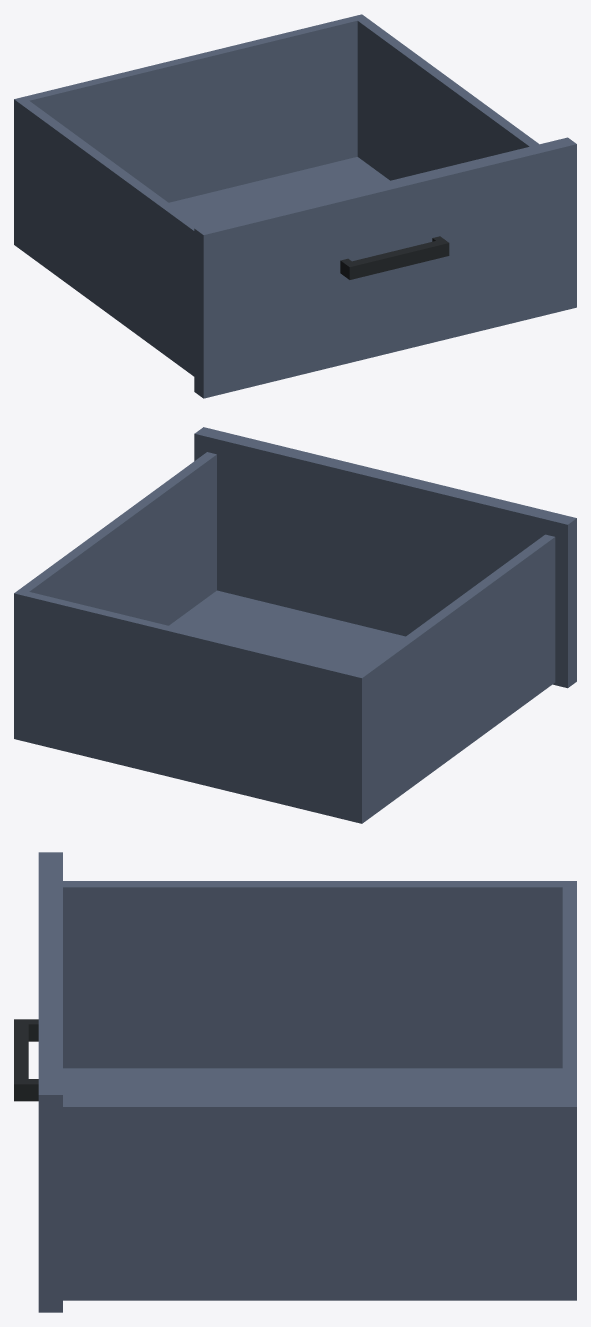
The model's file is Door2_C4_05.fbx.
3 renders of one model, top to bottom at view 1: azimuth 30°, elevation 25°; view 2: azimuth 150°, elevation 25°; view 3: azimuth 270°, elevation 25°, orthographic. The views are drawn at different scales.
Parts seen in each view (by area): view 1: Door2_C4_05; view 2: Door2_C4_05; view 3: Door2_C4_05.
Boxes of the visible parts, x1,y1,x2,y2 form: Door2_C4_05: (14,14,576,398); Door2_C4_05: (14,427,576,823); Door2_C4_05: (14,852,576,1312).
Bounding box in the file's own units: 59 × 24.68 × 57.89.
